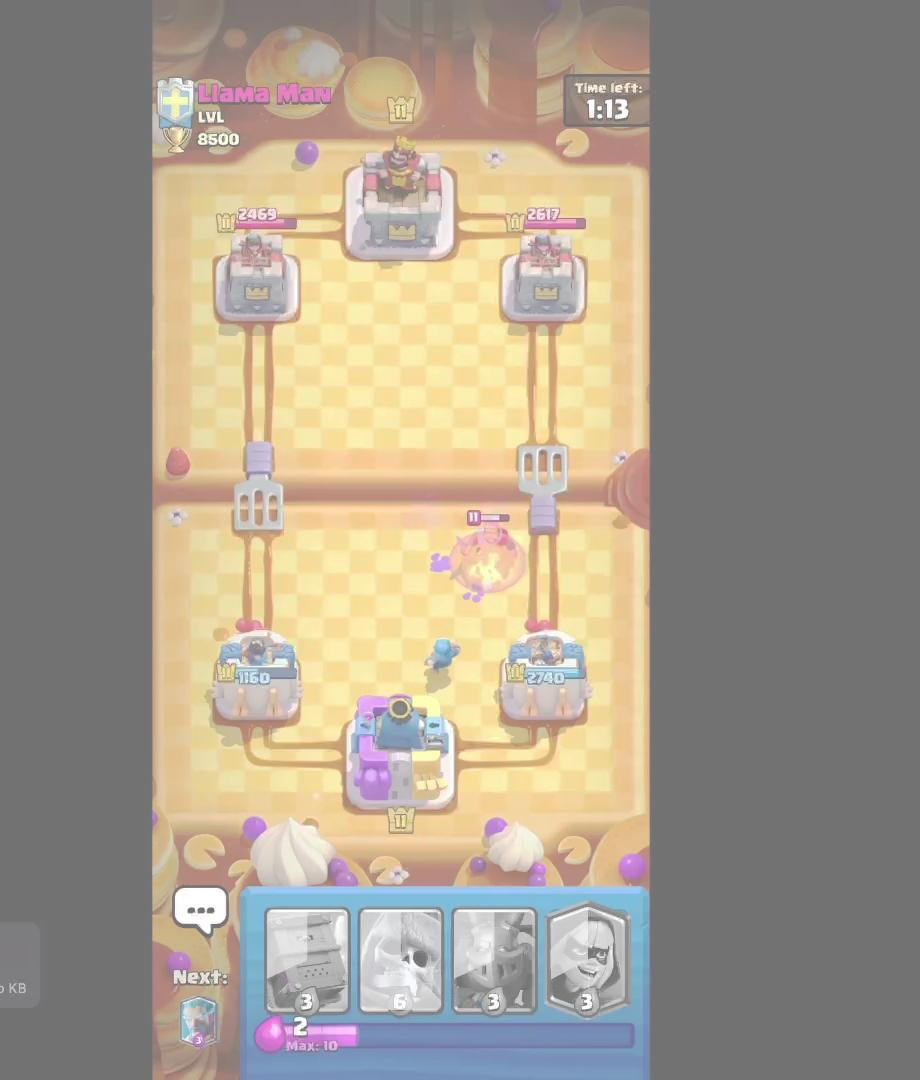Knight: (458, 504, 536, 582)
